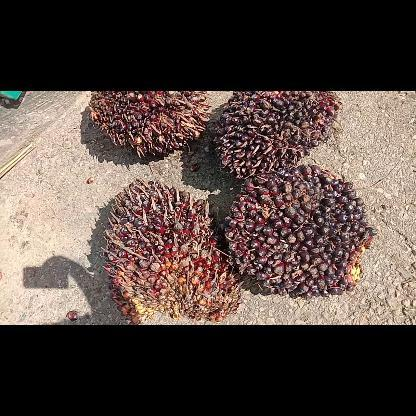TBS mentah: (98, 176, 244, 324), (224, 165, 376, 298), (212, 91, 340, 179), (88, 90, 216, 156)
